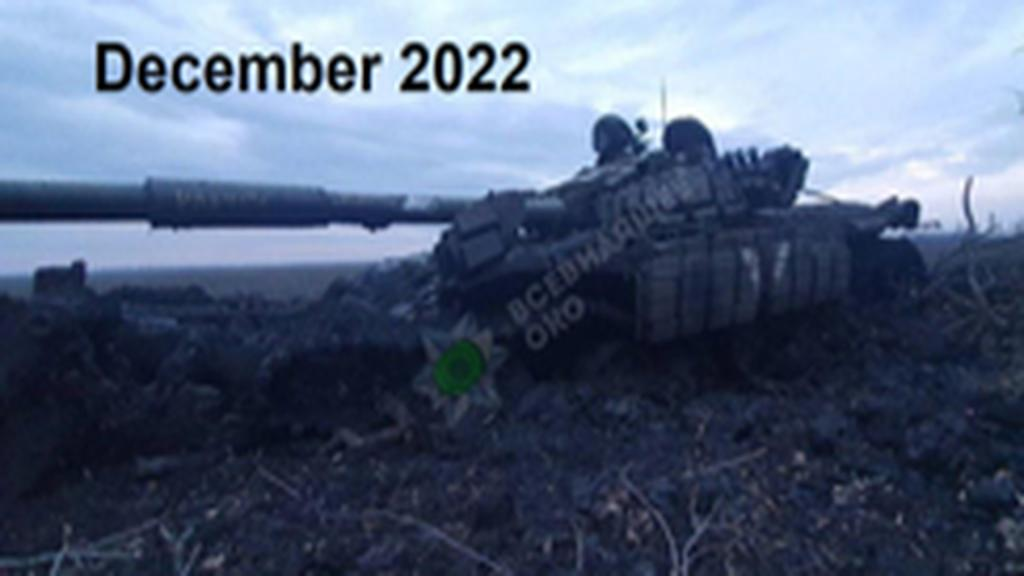TANK: (0, 106, 936, 386)
